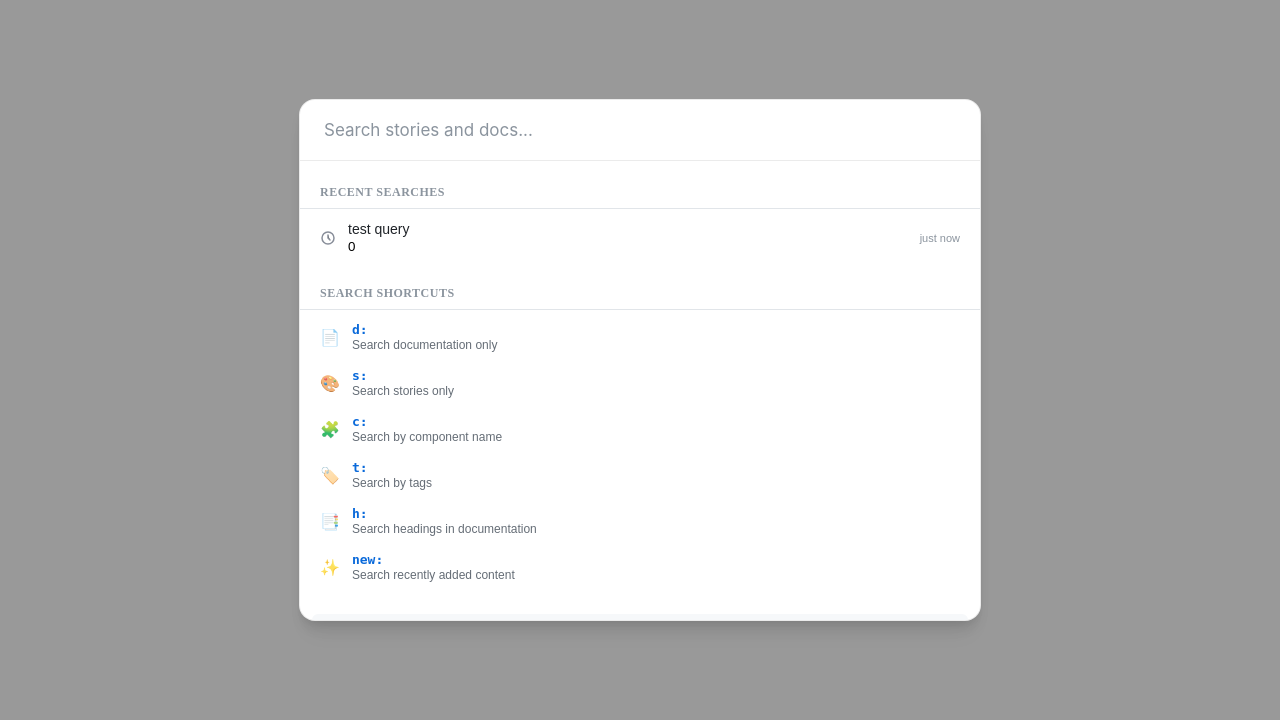
SearchDialog › shows empty state when no results found
Type "nonexistent" into the dropdown with placeholder "Search stories and docs...". click: (664, 130)
box: left=300, top=100, right=1028, bottom=161
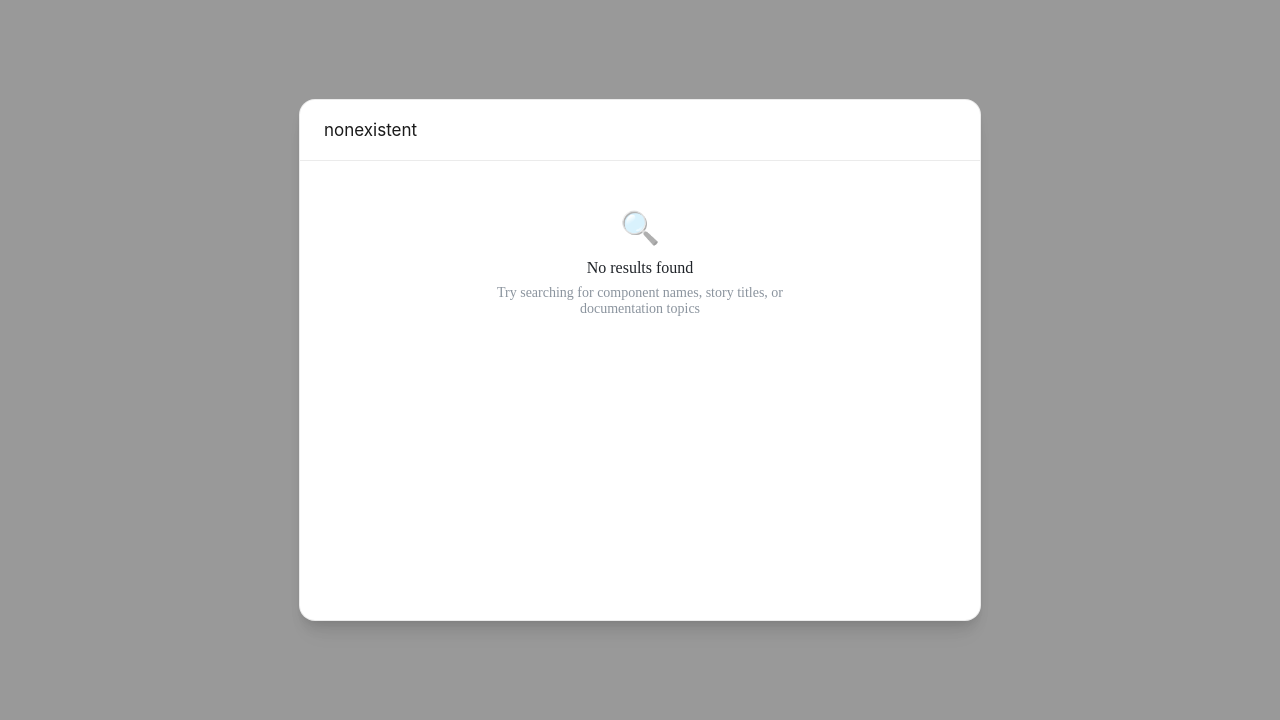
Expected: the text "No results found" is shown, left=587, top=259, right=693, bottom=277
